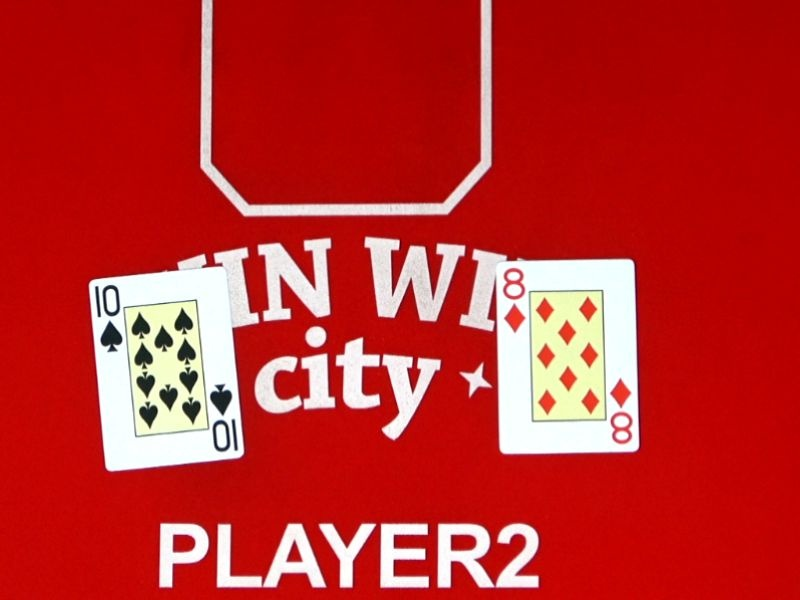10S: (182, 382, 268, 458), (65, 281, 151, 356)
8D: (585, 377, 664, 450), (476, 267, 551, 336)
